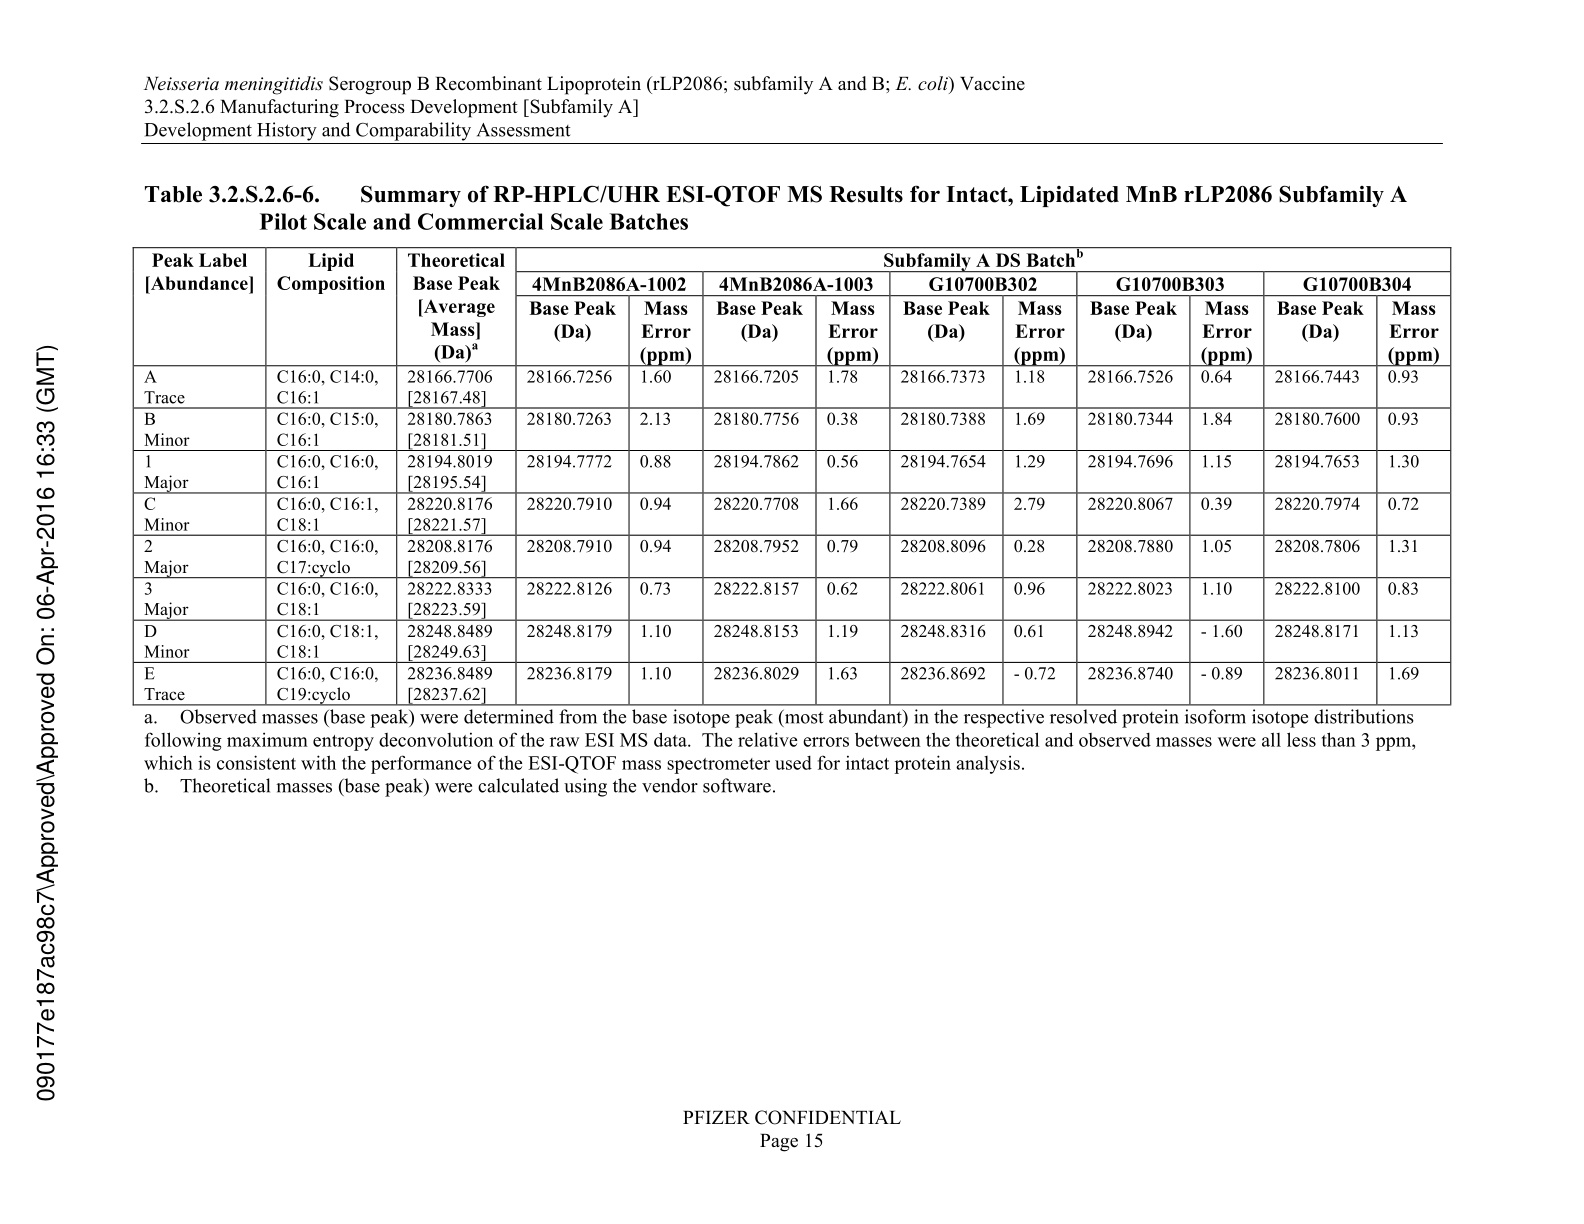merged_cells: (131, 246, 1452, 707)
